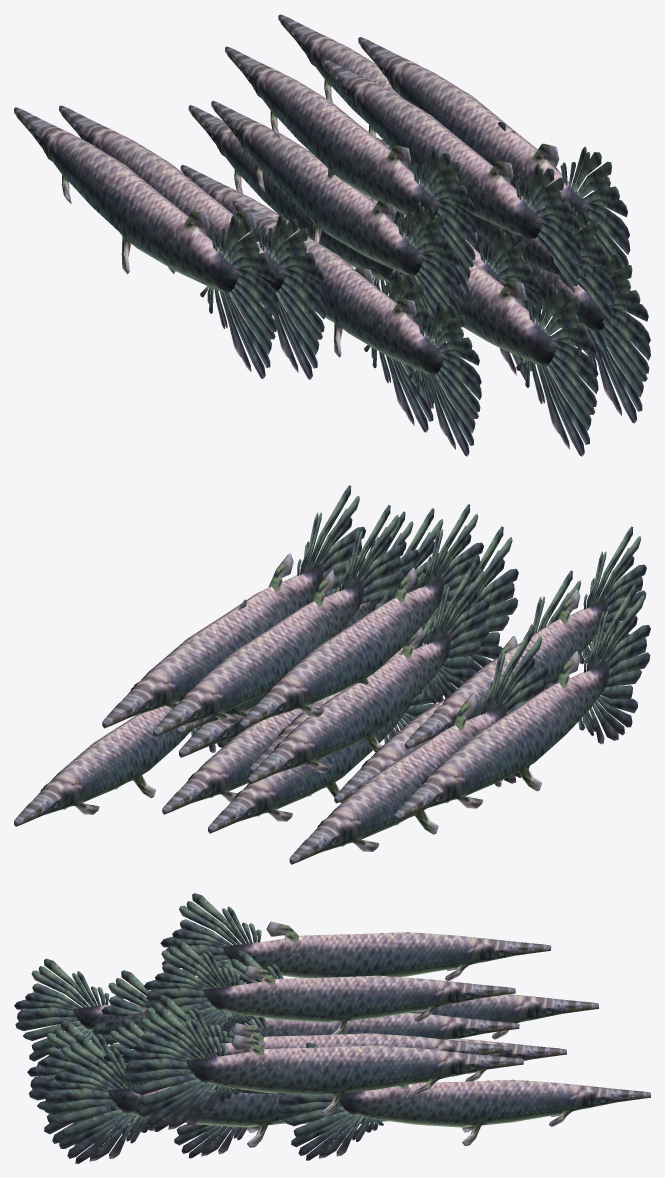
The model's file is RawFishPile_Gar.glb.
3 views of the same model, one above another, from view 1: azimuth 30°, elevation 25°; view 2: azimuth 150°, elevation 25°; view 3: azimuth 270°, elevation 25° (orthographic). The views are drawn at different scales.
Parts seen in each view (by area): view 1: RawFishPile_Gar; view 2: RawFishPile_Gar; view 3: RawFishPile_Gar.
Part boxes in pixels (x1,y1,x2,y2): RawFishPile_Gar: (14,14,650,456); RawFishPile_Gar: (14,485,650,864); RawFishPile_Gar: (14,893,650,1163).
Bounding box in the file's own units: 1.28 × 0.8418 × 2.54.
Materials: 1 (1 with a texture image).
